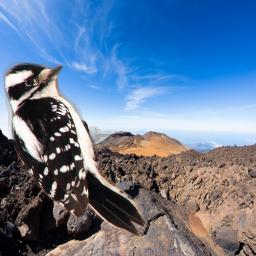Woodpecker: (3, 62, 149, 241)
